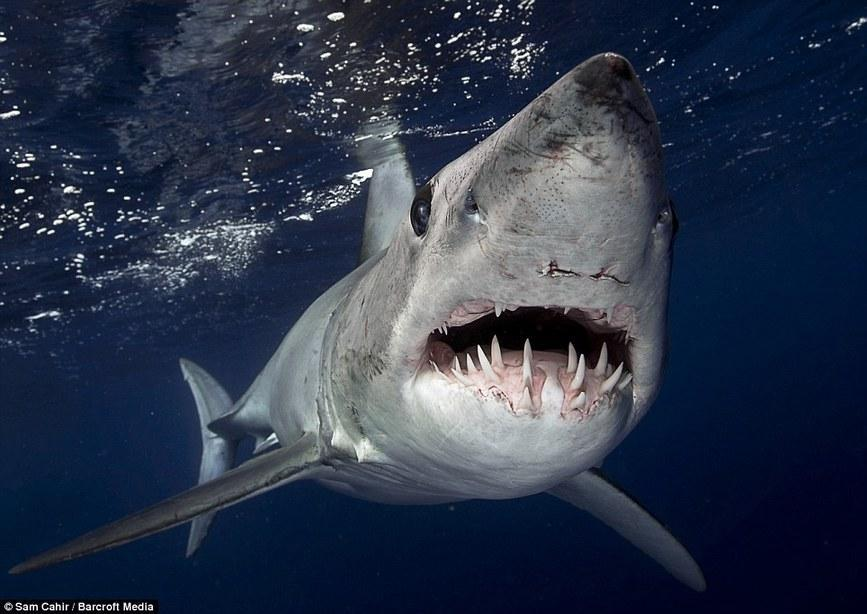fish: (10, 47, 717, 586)
